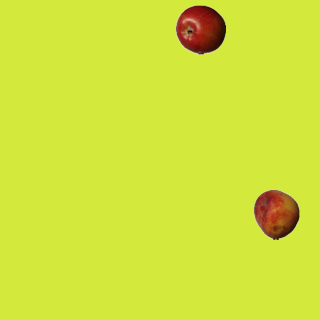Apple Braeburn: (175, 4, 225, 54)
Peach: (251, 189, 301, 239)
